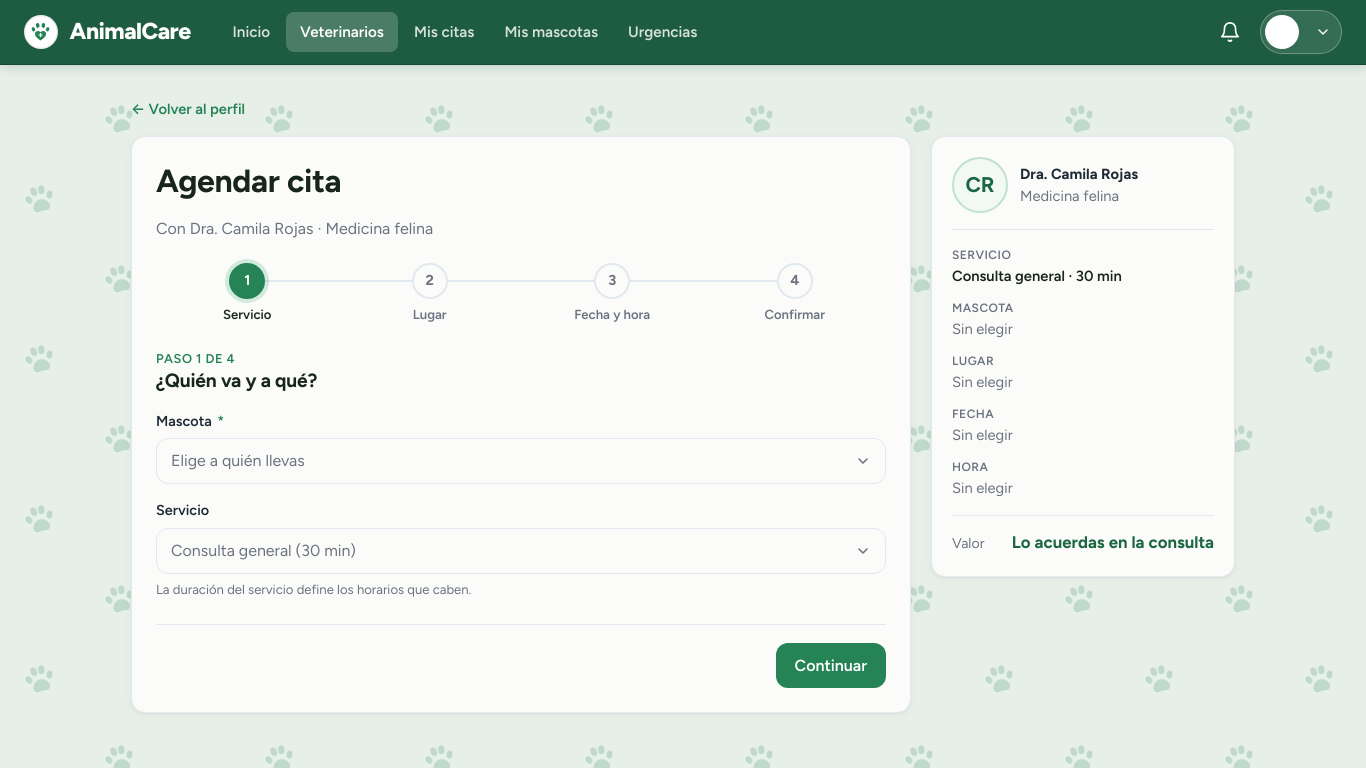
Test: AgendarCita por pasos › empieza en el paso 1 y no avanza sin elegir mascota
This screenshot has width=1366, height=768.
Check: the text "Paso 1 de 4" is shown, box [156,351,235,366]
Click the button "Continuar" at (831, 665), box [776,643,886,688]
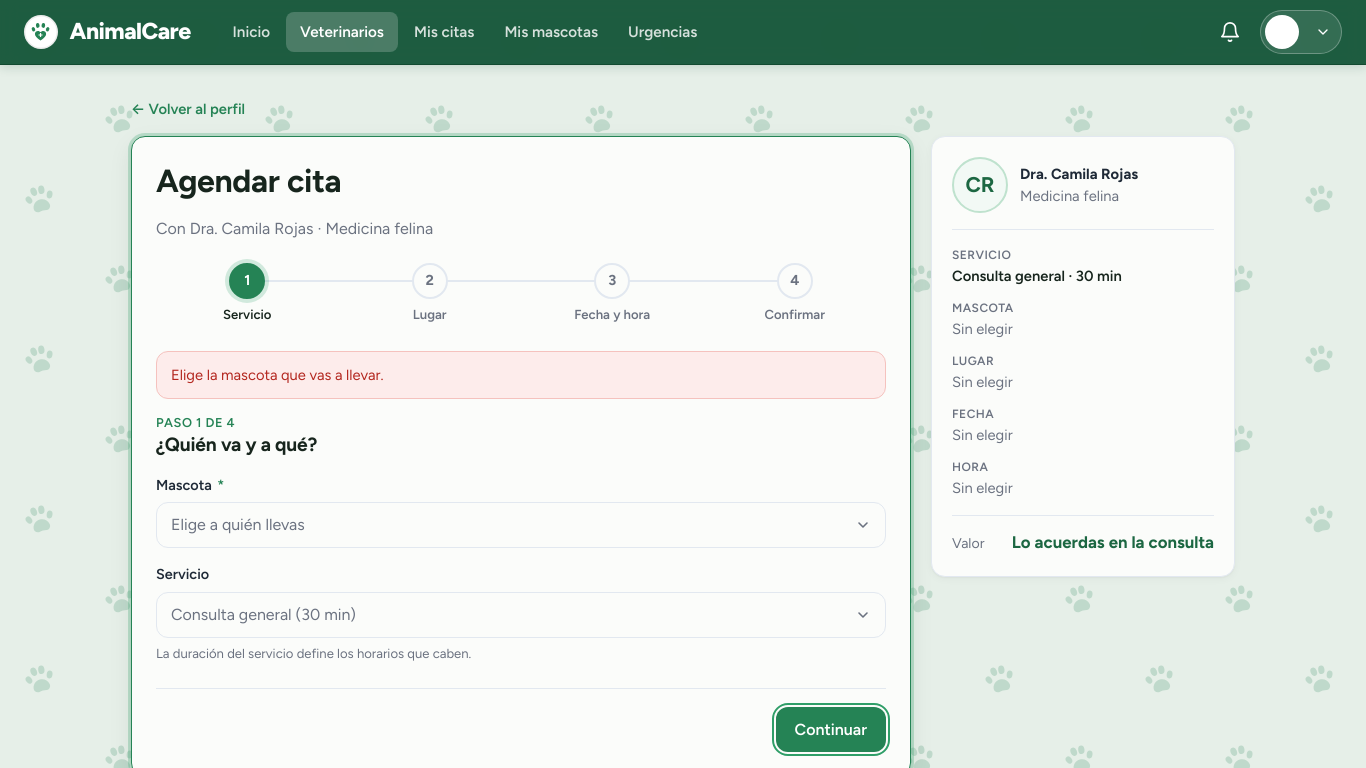
Check: the text "Paso 1 de 4" is shown, box [156,415,235,430]
Check: the text "Elige la mascota que vas a llevar." is shown, box [171,366,384,384]
